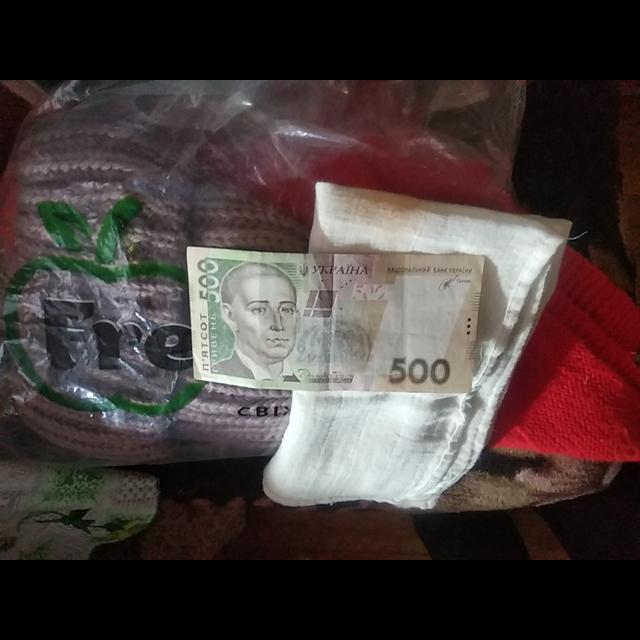500uah: (186, 248, 484, 393)
